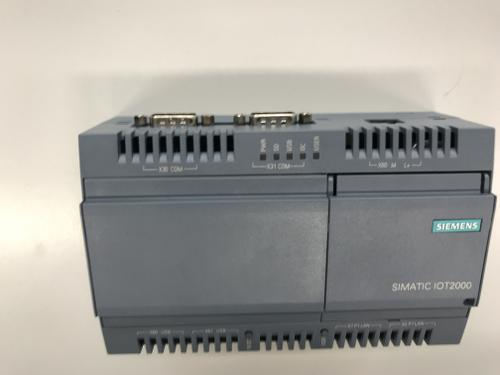device: (79, 112, 498, 355)
